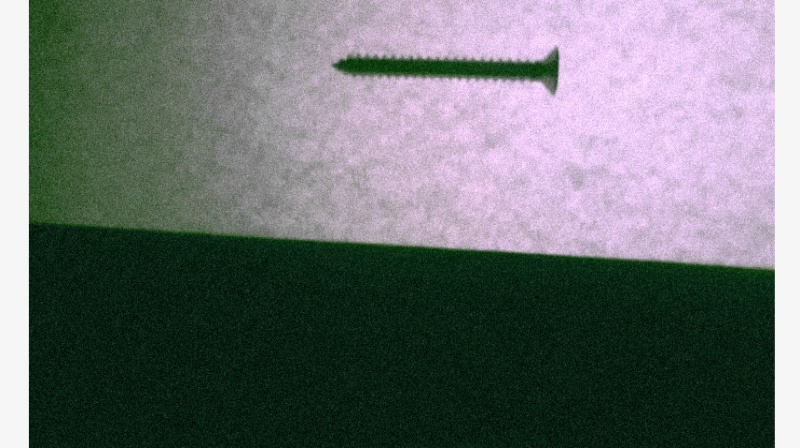S002: (328, 37, 563, 98)
